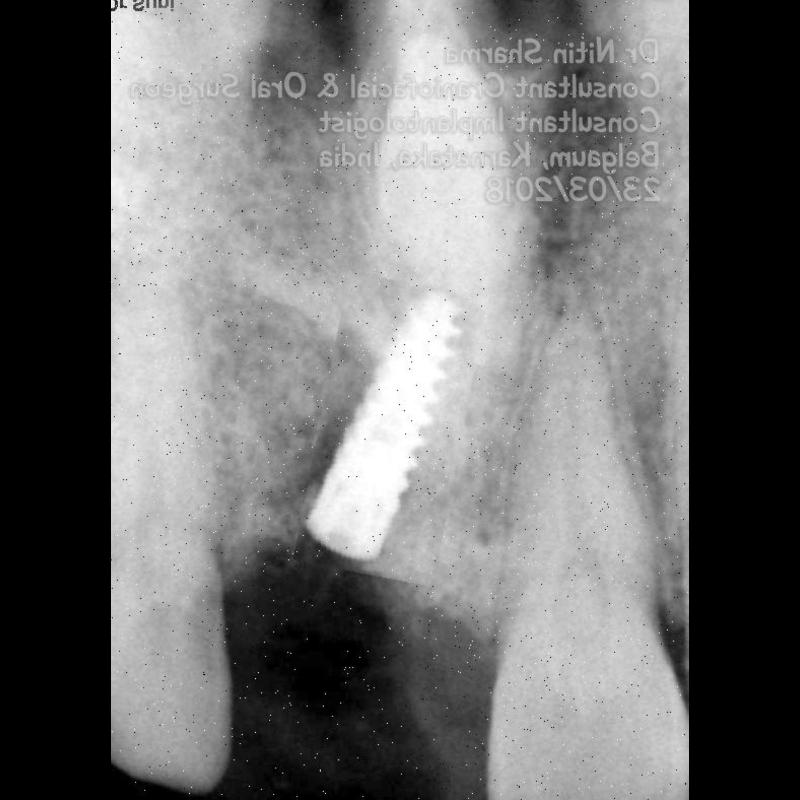osstem: (307, 278, 475, 582)
